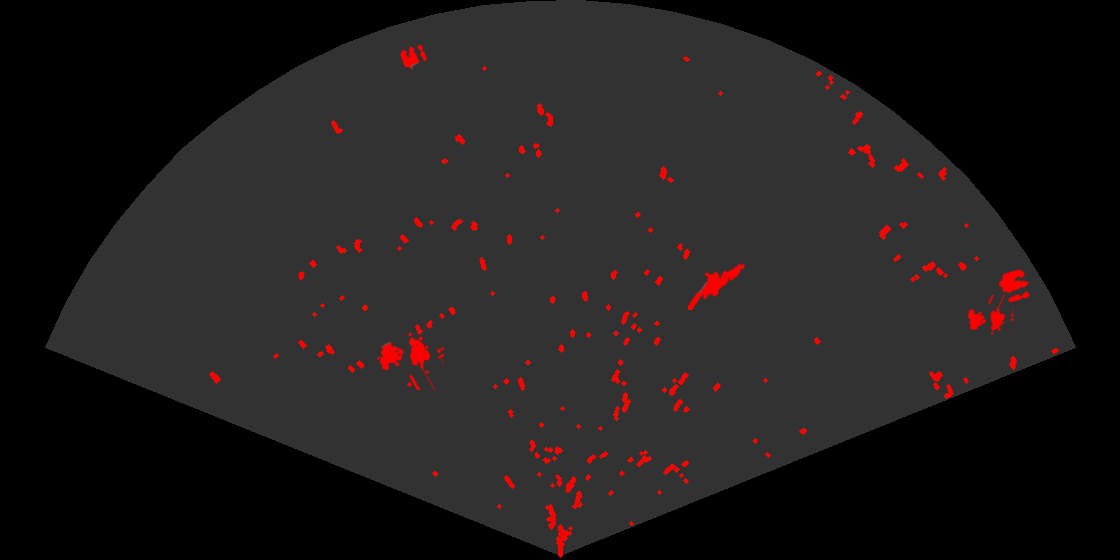ball: (997, 267, 1032, 304), (398, 43, 429, 71)
cage: (378, 331, 444, 390), (966, 295, 1014, 336)
frogman: (688, 262, 747, 310)
